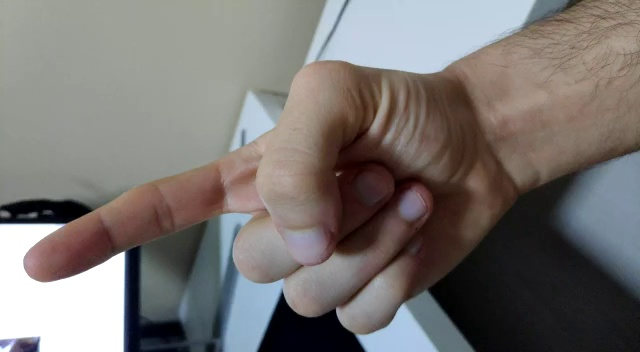One: (15, 1, 597, 342)
